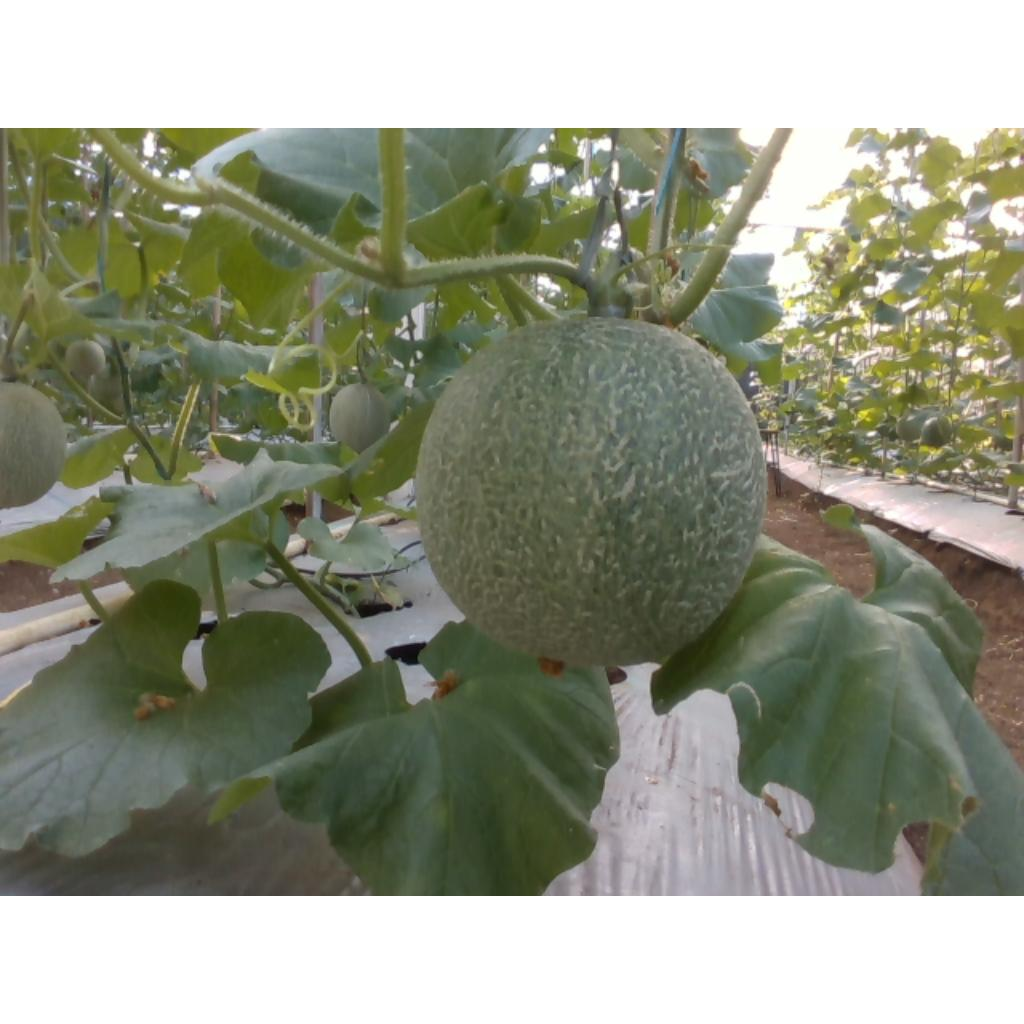melon: (419, 318, 766, 667)
